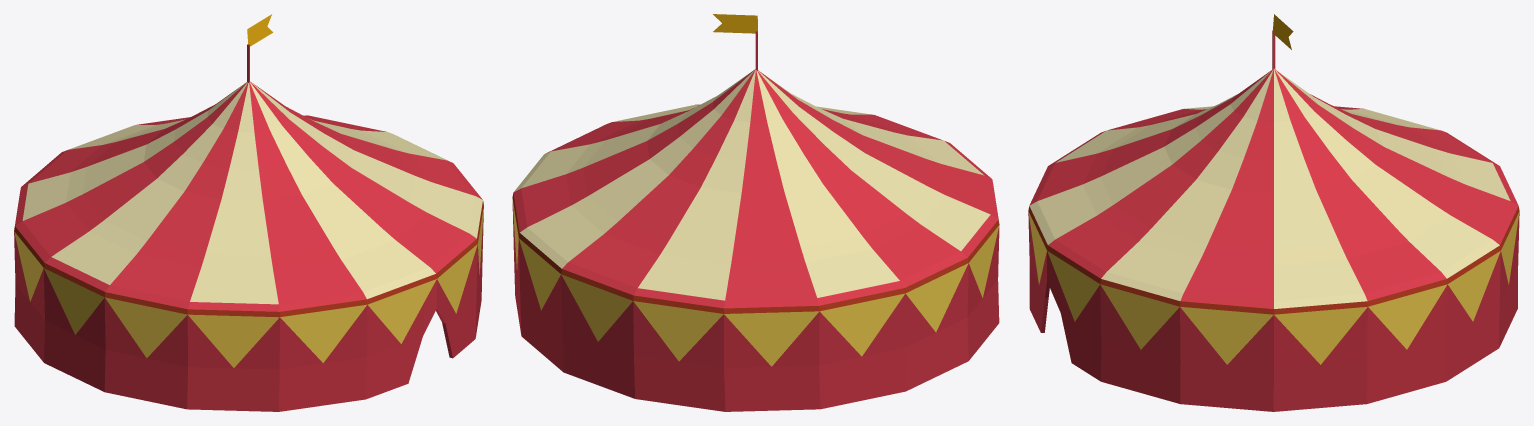
Rendered from building.fbx.
3 views of the same model, side by side, from view 1: azimuth 30°, elevation 25°; view 2: azimuth 150°, elevation 25°; view 3: azimuth 270°, elevation 25° (orthographic). The views are drawn at different scales.
Visible parts, largest first — view 1: Plane; view 2: Plane; view 3: Plane.
Part boxes in pixels (x1,y1,x2,y2): Plane: (14, 14, 483, 411); Plane: (512, 14, 999, 411); Plane: (1028, 14, 1519, 411).
Bounding box in the file's own units: 1606 × 1063 × 1606.
